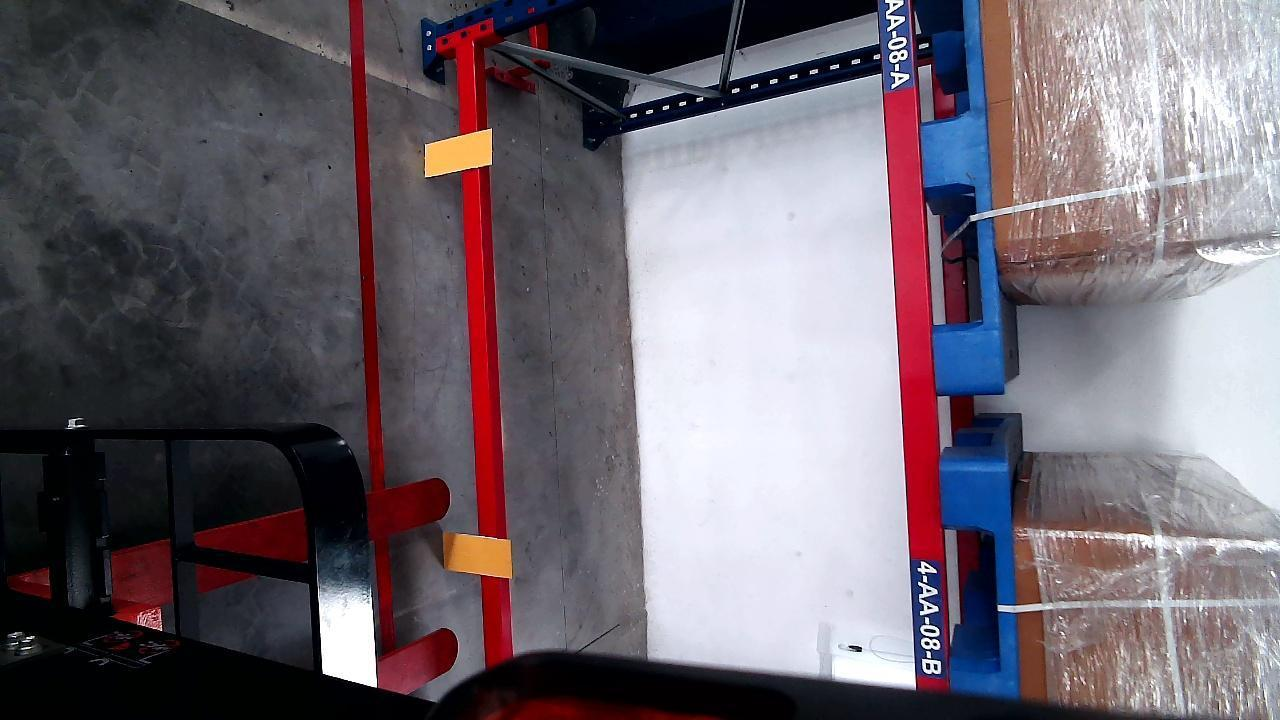h_rack: (880, 0, 948, 702), (454, 39, 510, 684)
orange_strip: (424, 129, 493, 176), (443, 532, 511, 579)
red_line: (351, 0, 385, 473)
small_pallet: (909, 0, 1001, 387), (944, 455, 1015, 696)
